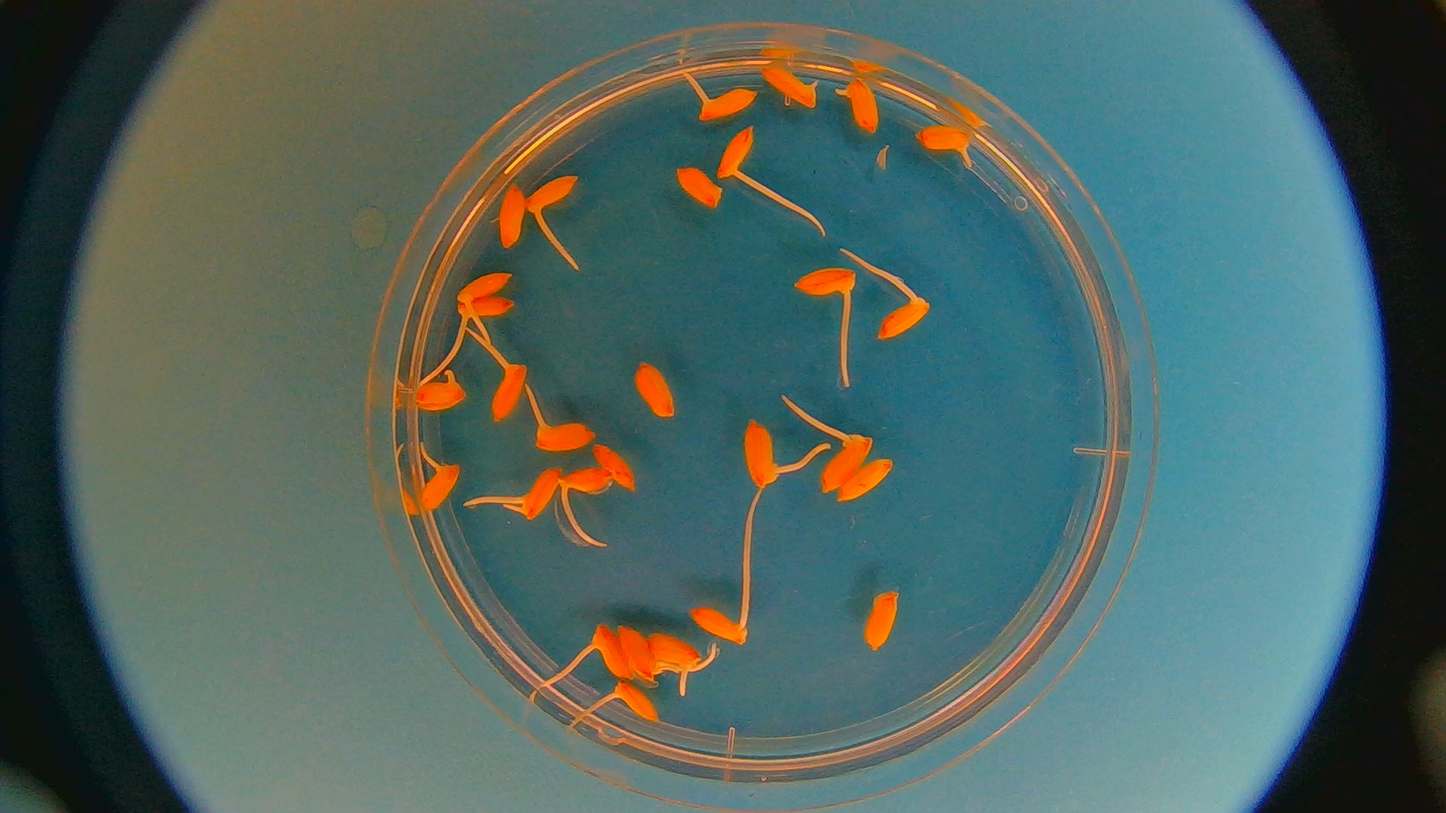no: (587, 439, 642, 494), (836, 455, 895, 505), (633, 364, 679, 420), (862, 587, 901, 651), (764, 62, 819, 107), (619, 623, 659, 679), (676, 166, 723, 212), (499, 181, 526, 248)
yes: (822, 431, 871, 496), (834, 75, 881, 133), (743, 421, 783, 488), (877, 293, 930, 343), (584, 623, 627, 684), (520, 170, 577, 212), (489, 358, 523, 427), (517, 467, 560, 521), (716, 123, 758, 178), (420, 457, 462, 512), (698, 86, 756, 124), (686, 607, 744, 645), (647, 633, 708, 669), (796, 265, 857, 300), (534, 416, 593, 452), (453, 269, 515, 303), (417, 372, 467, 412), (917, 129, 975, 163), (454, 294, 515, 324), (560, 466, 616, 497), (612, 683, 657, 717)
